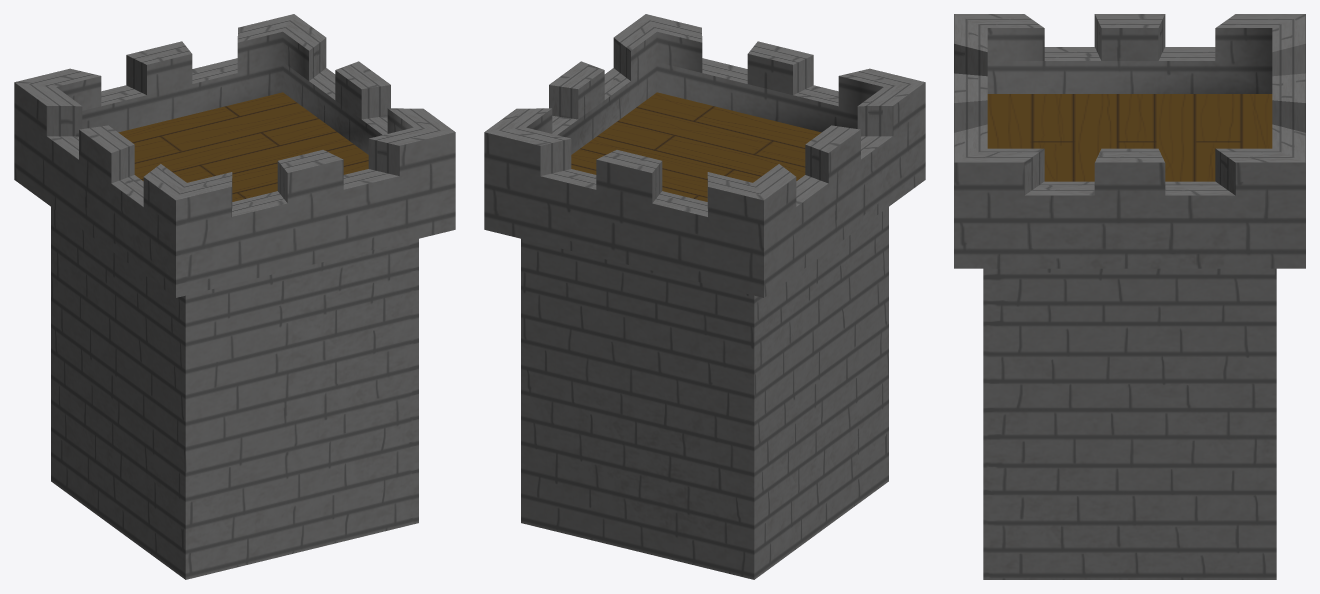
Rendered from Kanonenturm.fbx.
3 views of the same model, side by side, from view 1: azimuth 30°, elevation 25°; view 2: azimuth 150°, elevation 25°; view 3: azimuth 270°, elevation 25° (orthographic). The views are drawn at different scales.
Visible parts, largest first — view 1: Kanonenturm; view 2: Kanonenturm; view 3: Kanonenturm.
Part boxes in pixels (bbox=[...]): Kanonenturm: bbox=[14, 14, 455, 579]; Kanonenturm: bbox=[484, 14, 925, 579]; Kanonenturm: bbox=[954, 14, 1305, 579].
Bounding box in the file's own units: 295 × 398 × 295.
